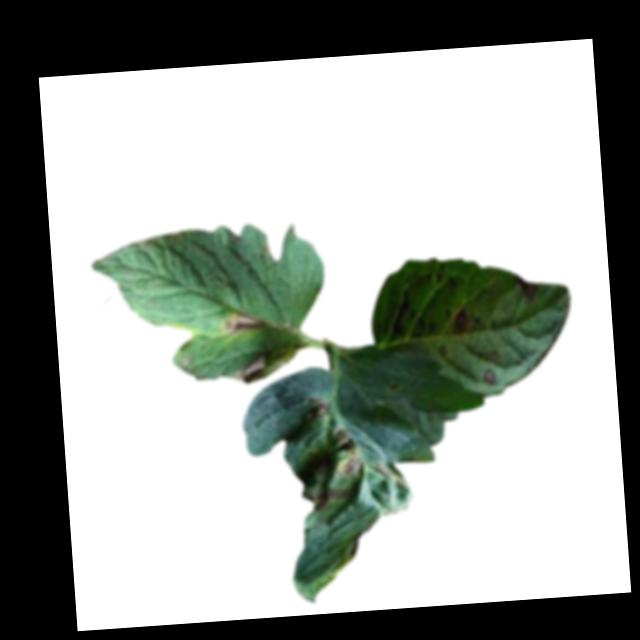Early_blight: (332, 427, 363, 475), (302, 485, 348, 514), (222, 310, 263, 338), (232, 355, 270, 385), (302, 395, 335, 418), (516, 275, 538, 305), (451, 307, 472, 337), (480, 367, 498, 385)
